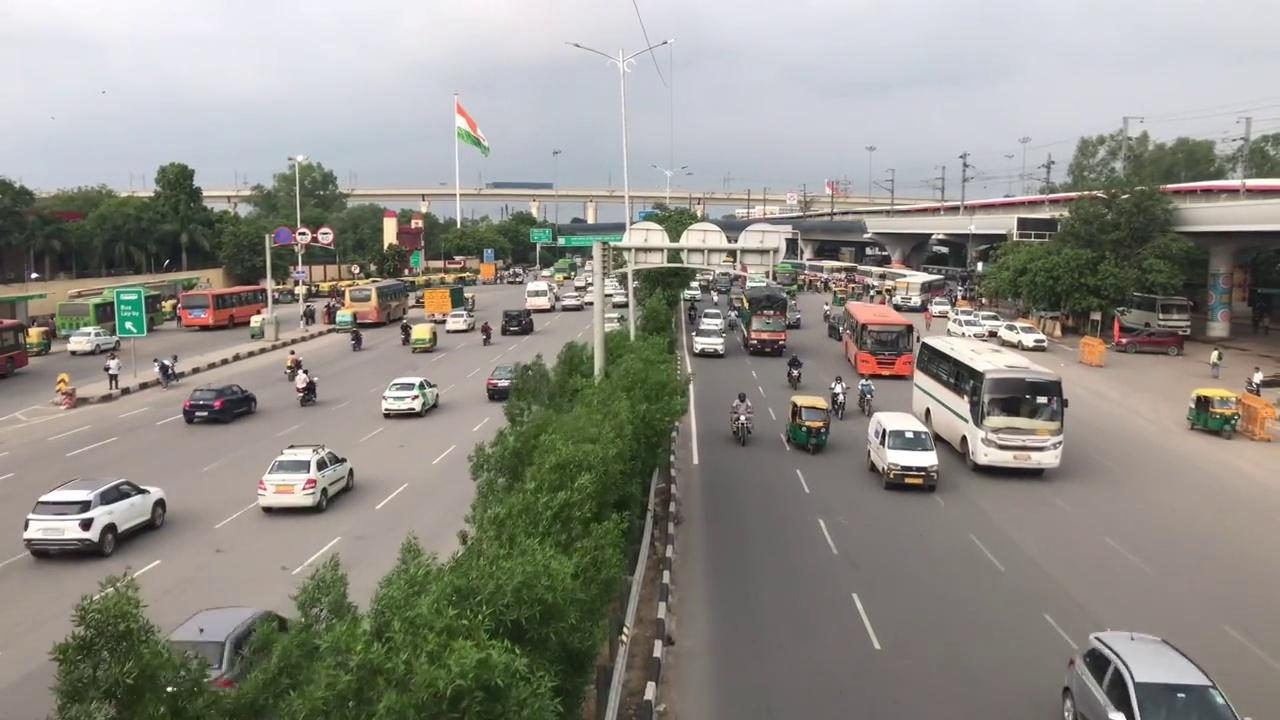Auto: (1187, 386, 1242, 439), (787, 392, 832, 456)
Bike: (728, 389, 754, 447), (294, 363, 318, 406), (830, 371, 847, 424), (786, 350, 803, 390)
Bus: (912, 340, 1066, 477), (844, 299, 915, 381)
Car: (1061, 624, 1249, 720), (23, 471, 172, 560), (259, 442, 354, 514), (380, 374, 440, 420)
